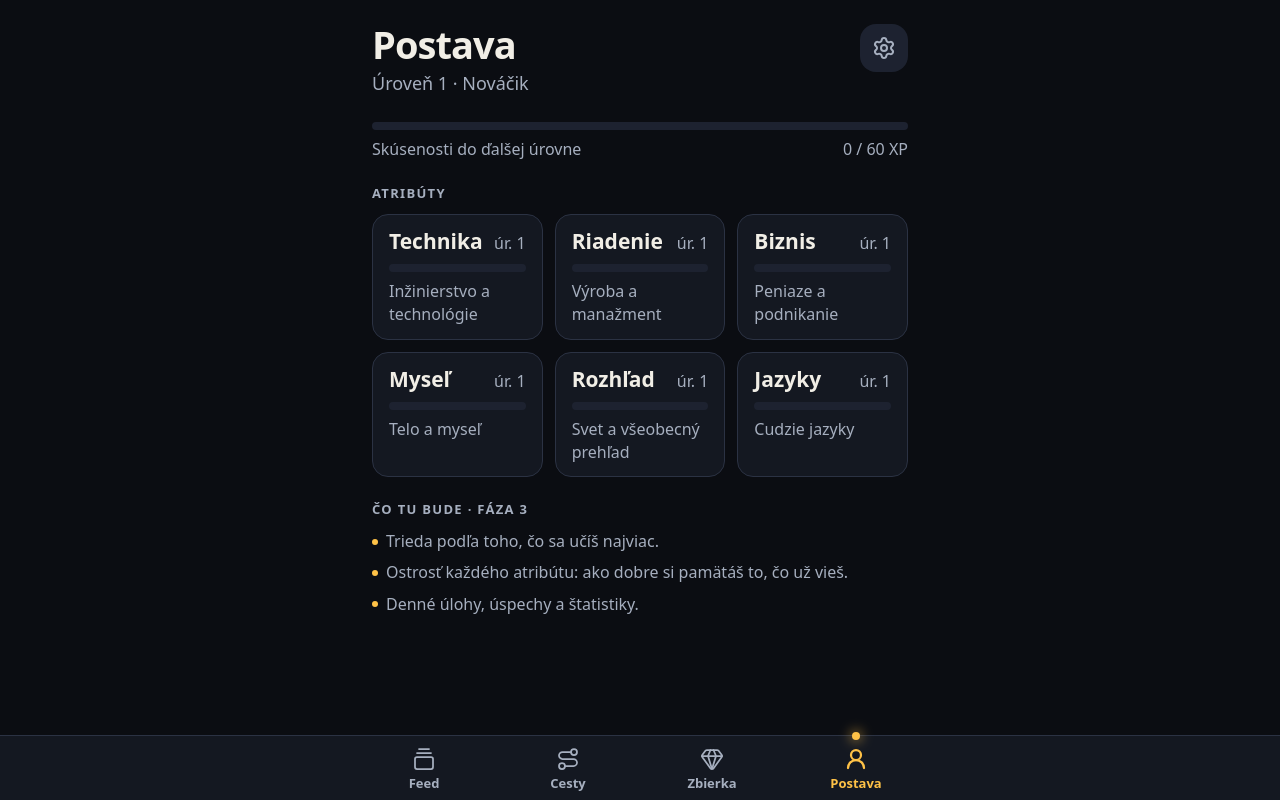
character › links to the settings
Expected: the heading "Postava" is shown, [372,24,529,66]
Click the link named "Nastavenia".
click(884, 48)  # box [860,24,908,72]
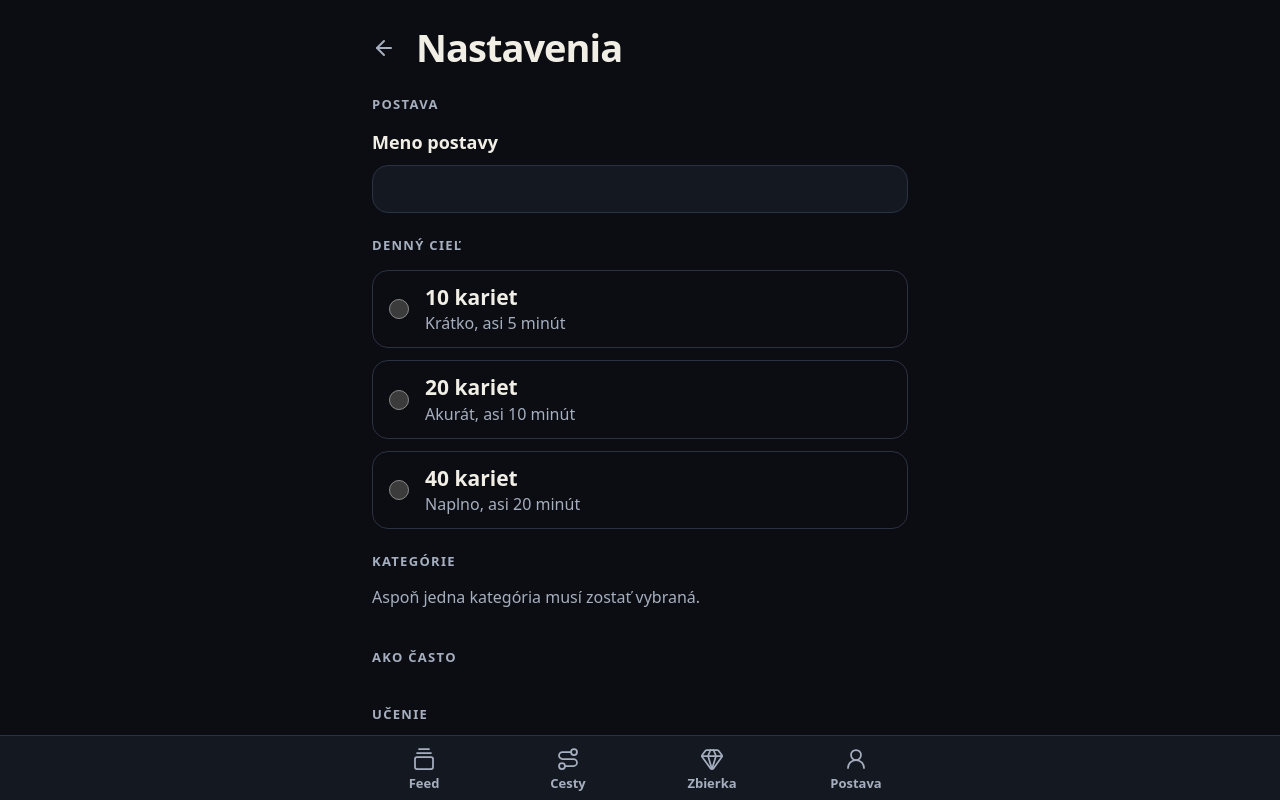
Now the heading "Nastavenia" is shown, box [416,27,622,69]
